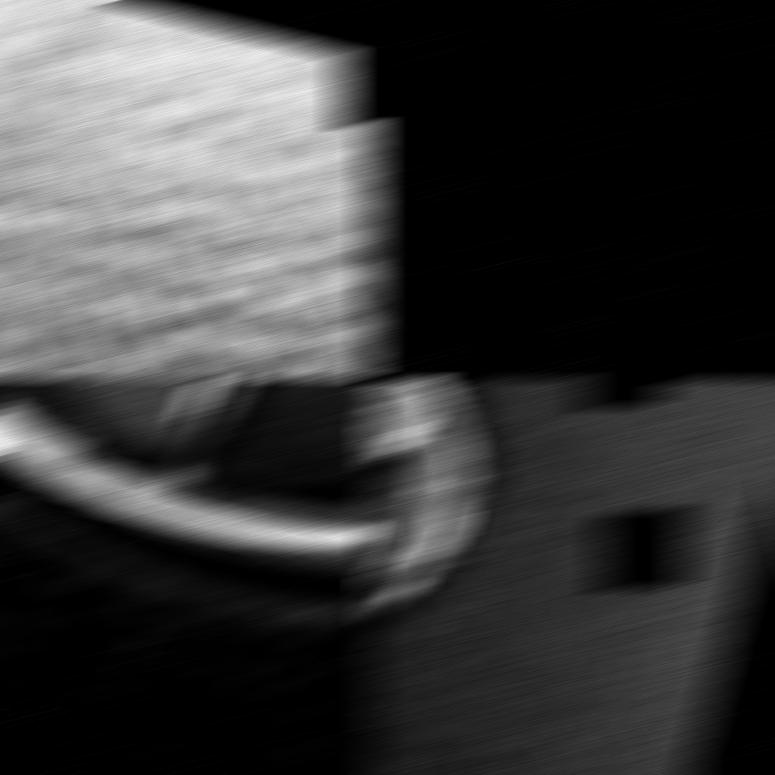Airbag: (364, 381, 775, 773), (0, 381, 380, 773), (0, 2, 380, 377)
